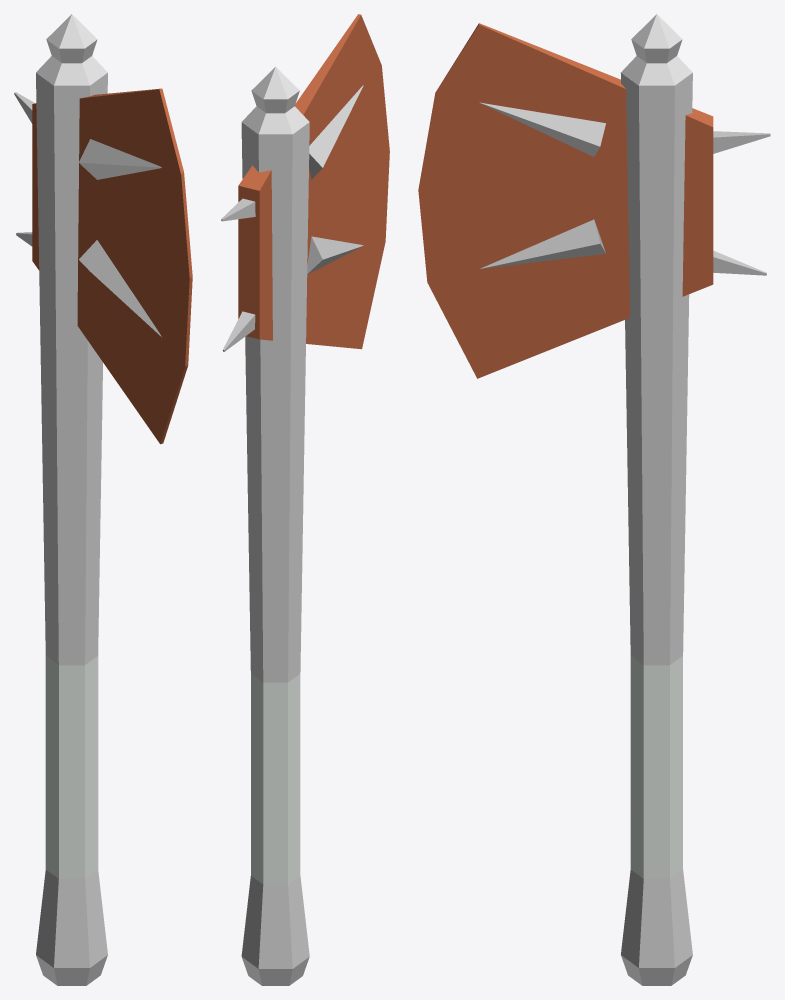
The model's file is DeviteAxe.fbx.
3 views of the same model, side by side, from view 1: azimuth 30°, elevation 25°; view 2: azimuth 150°, elevation 25°; view 3: azimuth 270°, elevation 25° (orthographic). The views are drawn at different scales.
Visible parts, largest first — view 1: Cylinder, Stone, Stone.002; view 2: Cylinder, Stone, Stone.002; view 3: Stone, Cylinder, Stone.002.
Boxes of the visible parts, x1,y1,x2,y2 form: Cylinder: (36,14,107,985); Stone: (32,88,192,444); Stone.002: (14,92,161,336); Cylinder: (241,66,309,985); Stone: (238,14,389,349); Stone.002: (221,85,363,351); Stone: (418,23,713,378); Cylinder: (620,14,692,985); Stone.002: (479,102,770,275).
Bounding box in the file's own units: 28.02 × 476 × 158.
